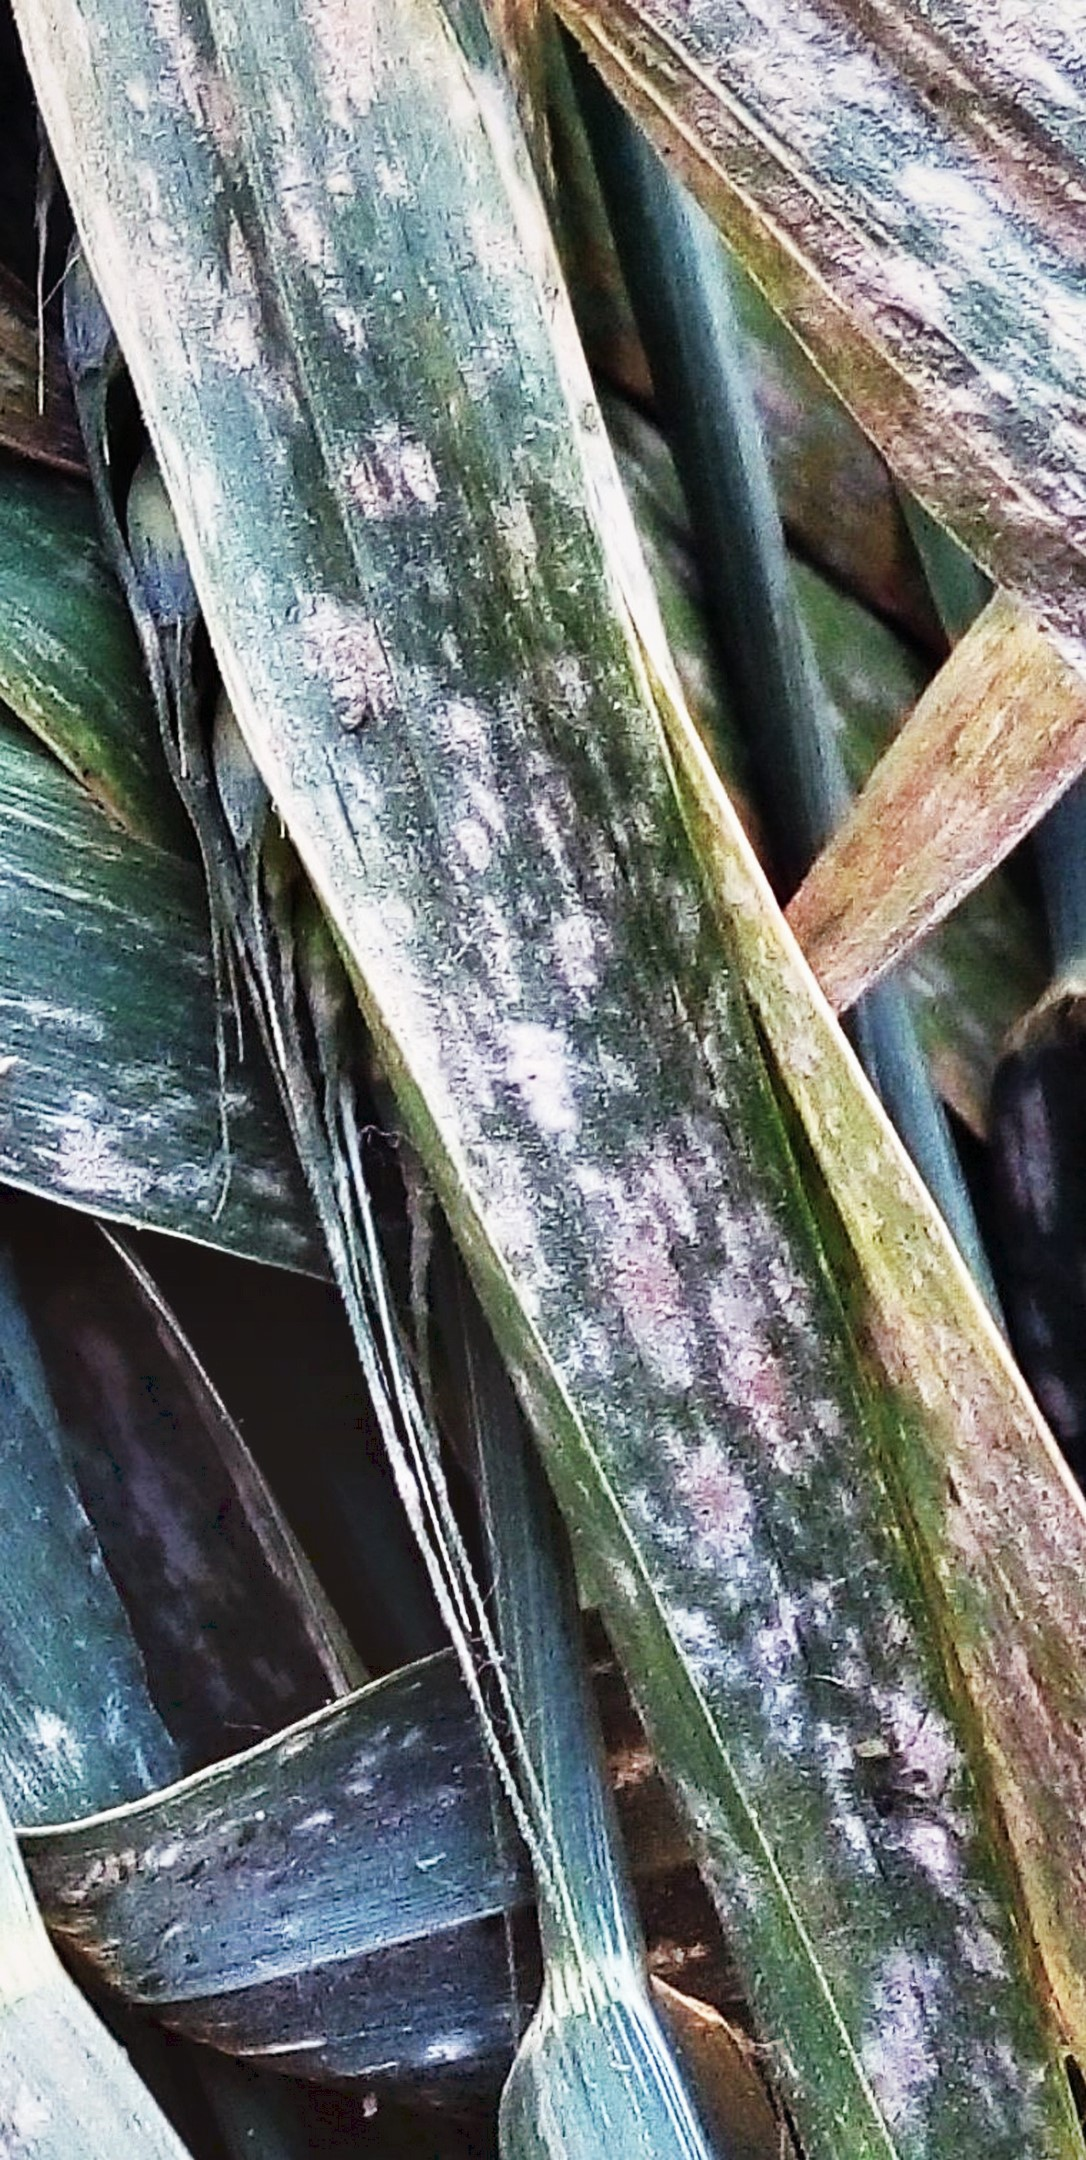Powdery Mildew: (226, 356, 923, 1710)
